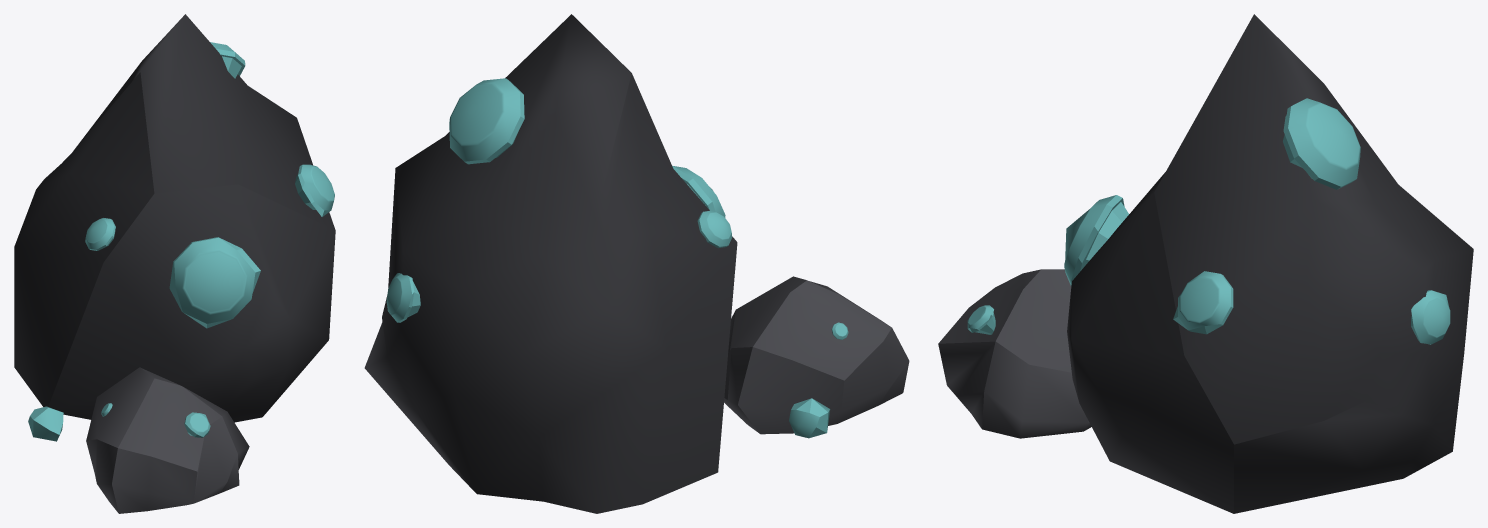
The model's file is hallie_ores_diamond_NEW.fbx.
The picture shows the model from 3 angles, left to right: view 1: azimuth 30°, elevation 25°; view 2: azimuth 150°, elevation 25°; view 3: azimuth 270°, elevation 25°; orthographic projection. The views are drawn at different scales.
Parts seen in each view (by area): view 1: m_oreRock, m_oreRock3, m_diaGem2, m_diaGem4, m_oreRock2, m_diaGem3, m_diaGem, m_diaGem1; view 2: m_oreRock, m_oreRock3, m_diaGem, m_oreRock2, m_diaGem5, m_diaGem3, m_diaGem2; view 3: m_oreRock, m_oreRock3, m_diaGem, m_diaGem2, m_diaGem4, m_diaGem5, m_diaGem1.
Boxes of the visible parts, x1,y1,x2,y2 form: m_oreRock: [14, 14, 335, 422]; m_oreRock3: [86, 367, 249, 513]; m_diaGem2: [169, 237, 260, 328]; m_diaGem4: [295, 164, 334, 216]; m_oreRock2: [28, 406, 63, 441]; m_diaGem3: [85, 218, 115, 250]; m_diaGem: [210, 42, 245, 78]; m_diaGem1: [184, 412, 210, 437]; m_oreRock: [364, 14, 737, 513]; m_oreRock3: [724, 276, 909, 434]; m_diaGem: [449, 78, 524, 164]; m_oreRock2: [789, 398, 830, 438]; m_diaGem5: [386, 273, 420, 322]; m_diaGem3: [697, 210, 732, 248]; m_diaGem2: [672, 165, 725, 217]; m_oreRock: [1067, 14, 1473, 513]; m_oreRock3: [938, 269, 1091, 438]; m_diaGem: [1283, 98, 1360, 189]; m_diaGem2: [1064, 195, 1128, 285]; m_diaGem4: [1173, 271, 1233, 334]; m_diaGem5: [1411, 290, 1450, 344]; m_diaGem1: [967, 305, 995, 334].
Size of the model in its own units: 2.41 by 2.66 by 2.84.
